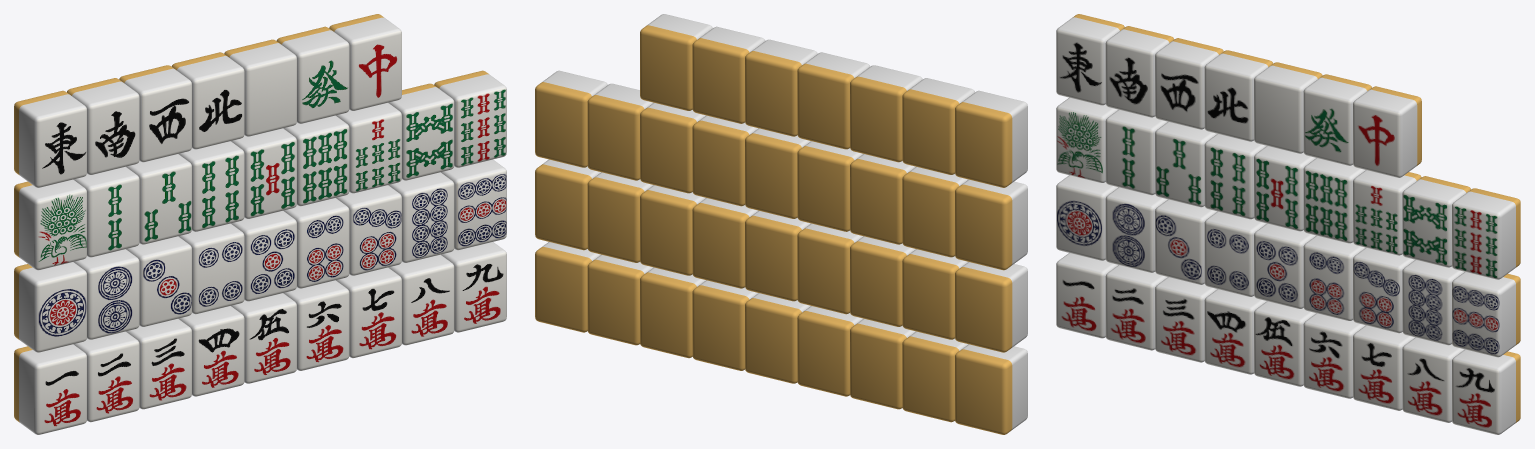
The model's file is mahjong.fbx.
3 views of the same model, side by side, from view 1: azimuth 30°, elevation 25°; view 2: azimuth 150°, elevation 25°; view 3: azimuth 330°, elevation 25° (orthographic). The views are drawn at different scales.
Visible parts, largest first — view 1: TO, S1, M1, P1, HK, SH, HT, PE, S9, NA, CH, S8 (+22 smaller); view 2: TO, S1, M1, P1, HK, SH, HT, PE, S9, NA, CH, S8 (+22 smaller); view 3: CH, S9, M9, P9, HK, NA, TO, SH, S8, HT, PE, S7 (+22 smaller).
Part boxes in pixels (left/top/right/bottom): TO: left=14, top=90, right=86, bottom=187; S1: left=14, top=179, right=86, bottom=270; M1: left=14, top=344, right=86, bottom=434; P1: left=14, top=262, right=86, bottom=352; HK: left=224, top=39, right=296, bottom=136; SH: left=119, top=65, right=191, bottom=162; HT: left=276, top=26, right=349, bottom=123; PE: left=171, top=52, right=244, bottom=149; S9: left=434, top=70, right=506, bottom=167; NA: left=67, top=78, right=139, bottom=174; CH: left=329, top=14, right=401, bottom=110; S8: left=388, top=83, right=454, bottom=180; TO: left=955, top=90, right=1027, bottom=187; S1: left=955, top=179, right=1027, bottom=270; M1: left=955, top=344, right=1027, bottom=434; P1: left=955, top=262, right=1027, bottom=352; HK: left=745, top=39, right=817, bottom=136; SH: left=850, top=65, right=922, bottom=162; HT: left=692, top=26, right=765, bottom=123; PE: left=797, top=52, right=870, bottom=149; S9: left=535, top=70, right=607, bottom=167; NA: left=902, top=78, right=974, bottom=174; CH: left=640, top=14, right=712, bottom=110; S8: left=587, top=83, right=653, bottom=180; CH: left=1353, top=86, right=1421, bottom=177; S9: left=1452, top=188, right=1520, bottom=279; M9: left=1452, top=349, right=1520, bottom=434; P9: left=1452, top=272, right=1520, bottom=357; HK: left=1254, top=62, right=1322, bottom=153; NA: left=1105, top=26, right=1174, bottom=117; TO: left=1056, top=14, right=1124, bottom=105; SH: left=1155, top=38, right=1223, bottom=129; S8: left=1402, top=176, right=1470, bottom=267; HT: left=1303, top=74, right=1371, bottom=165; PE: left=1204, top=50, right=1272, bottom=141; S7: left=1353, top=170, right=1421, bottom=255.
Bounding box in the file's own units: 1800 × 1160 × 160.
